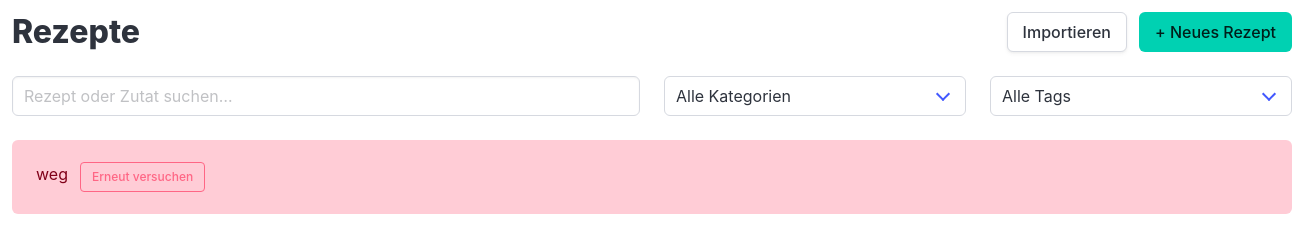
Scenario: RecipesPage › shows empty list and errors
Step 1. Click the button "Erneut versuchen" → click(143, 177), box top-left (80, 162), bottom-right (205, 192)
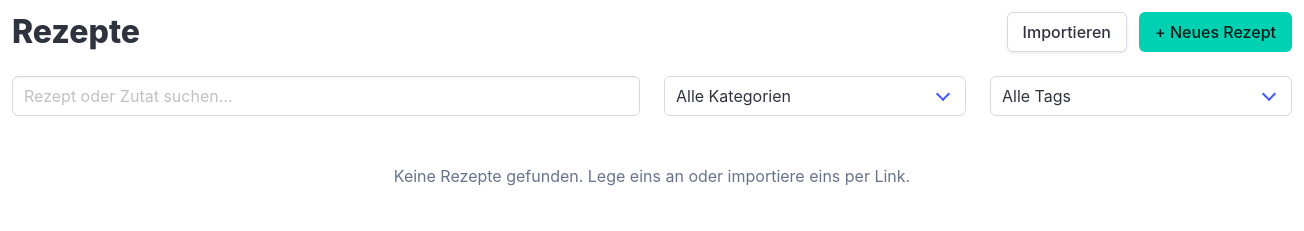
Now the text "Keine Rezepte gefunden" is shown, box top-left (394, 166), bottom-right (910, 186)
